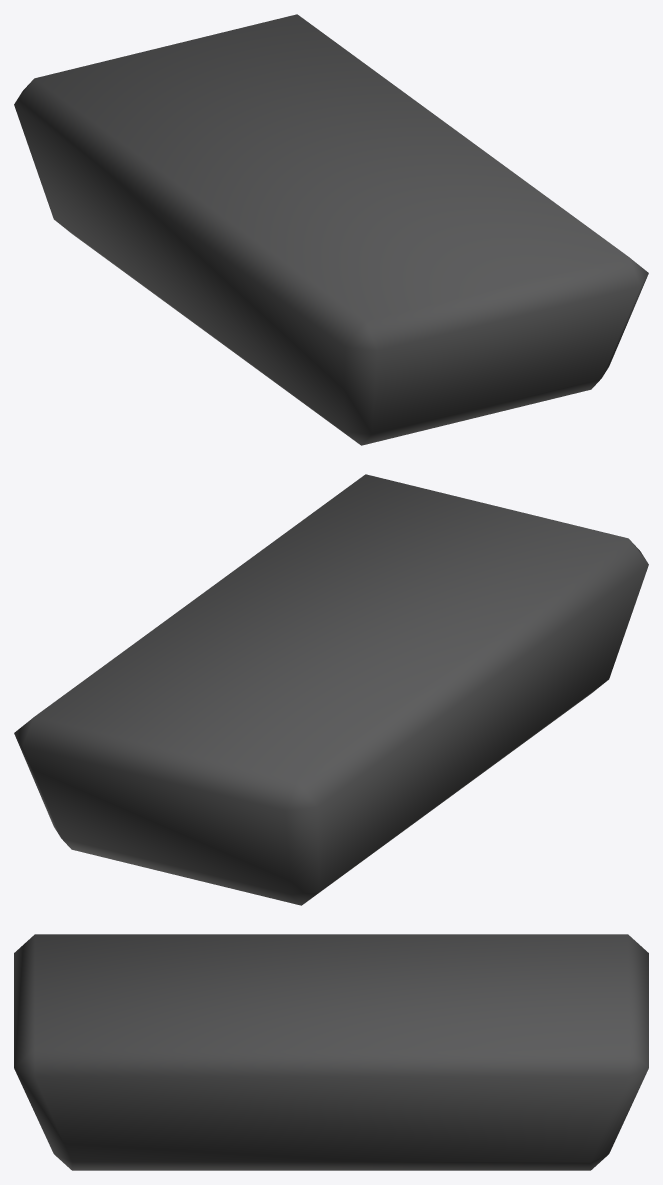
File: Podest_1_2.glb
The picture shows the model from 3 angles, top to bottom: view 1: azimuth 30°, elevation 25°; view 2: azimuth 150°, elevation 25°; view 3: azimuth 270°, elevation 25°; orthographic projection. The views are drawn at different scales.
Parts seen in each view (by area): view 1: Podest_1_2; view 2: Podest_1_2; view 3: Podest_1_2.
Part boxes in pixels (<box>): Podest_1_2: <box>14,14,648,445</box>; Podest_1_2: <box>14,474,648,905</box>; Podest_1_2: <box>14,934,648,1170</box>.
Size of the model in its own units: 0.4331 by 0.1963 by 0.8764.
1 material, 1 textured.
